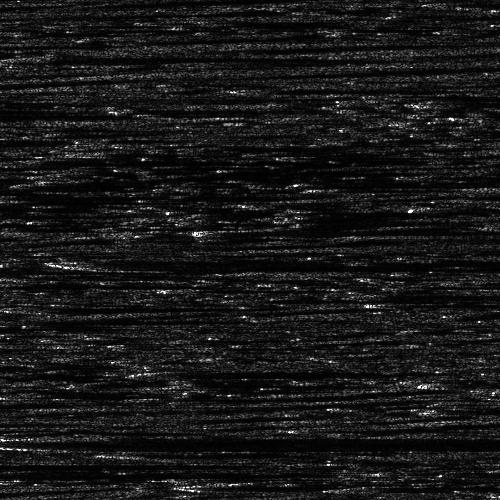object: (15, 253, 130, 270), (176, 218, 239, 243), (0, 432, 63, 449), (383, 405, 476, 416), (399, 376, 482, 387), (156, 479, 249, 488), (394, 203, 477, 212), (117, 369, 200, 376), (0, 220, 15, 229)
shadow: (0, 432, 500, 449), (208, 218, 500, 243), (72, 253, 500, 270), (0, 178, 328, 195), (0, 276, 230, 293), (0, 466, 227, 479), (0, 459, 180, 470), (159, 369, 388, 376), (203, 479, 320, 488), (430, 405, 500, 416), (440, 376, 500, 387), (436, 203, 500, 212), (0, 220, 58, 229), (0, 398, 52, 407), (0, 361, 79, 366)
